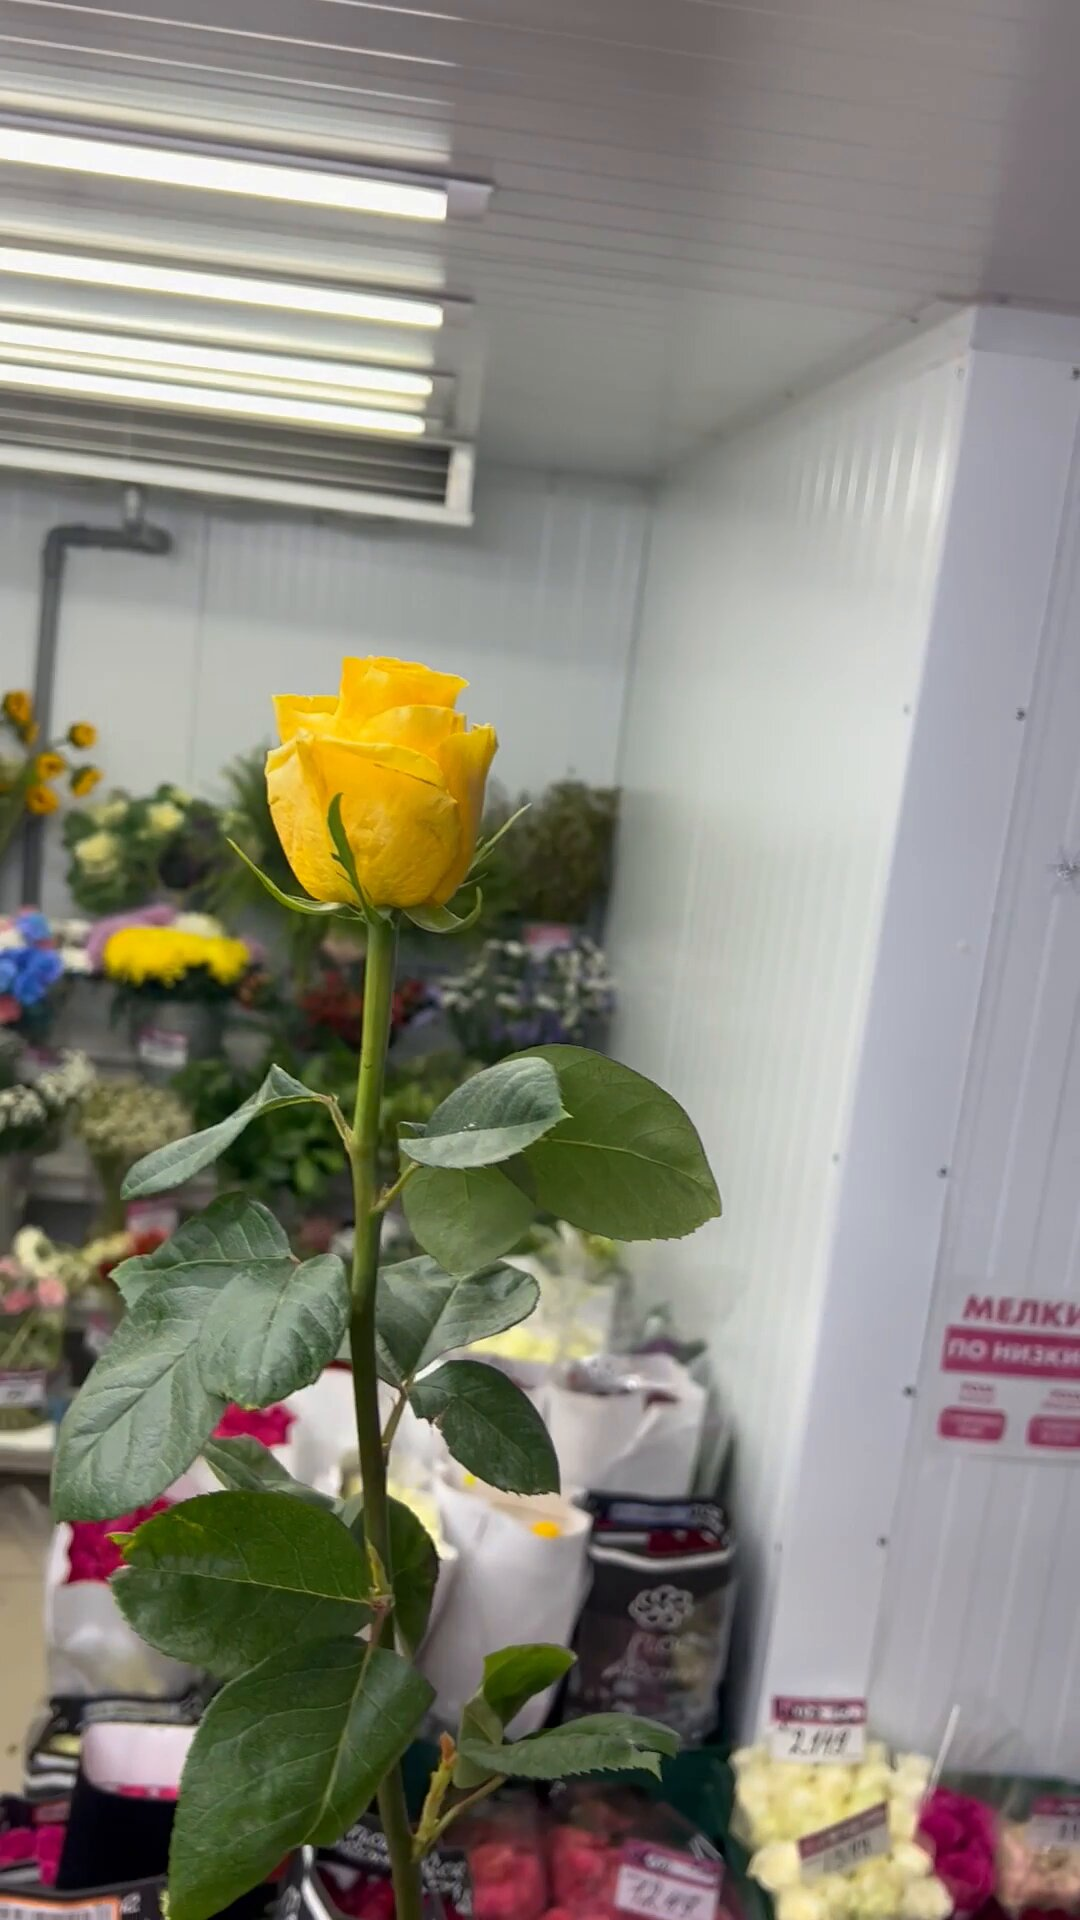rose: (156, 647, 655, 1920)
